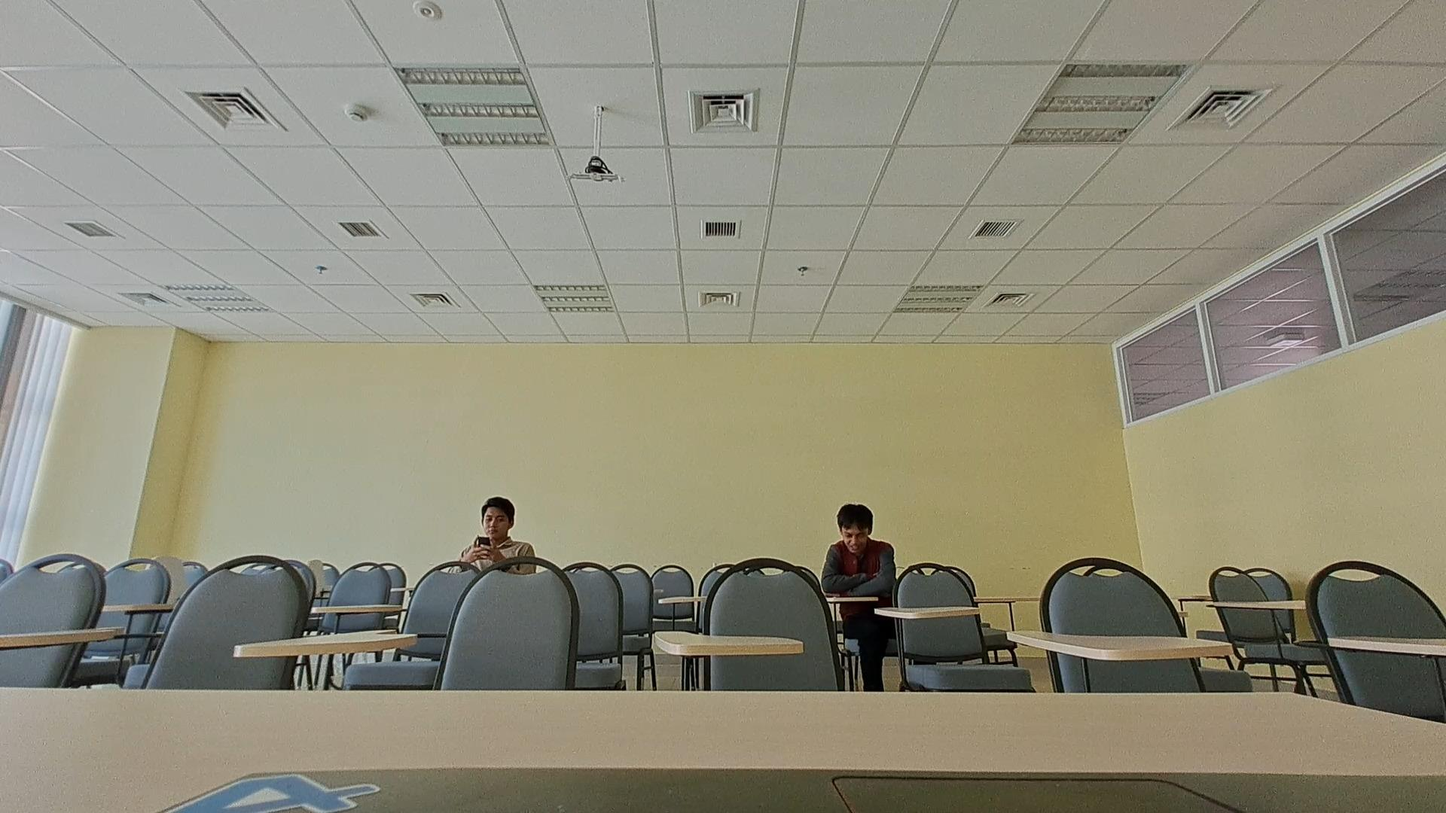phone: (447, 498, 535, 574)
study: (820, 503, 895, 600)
